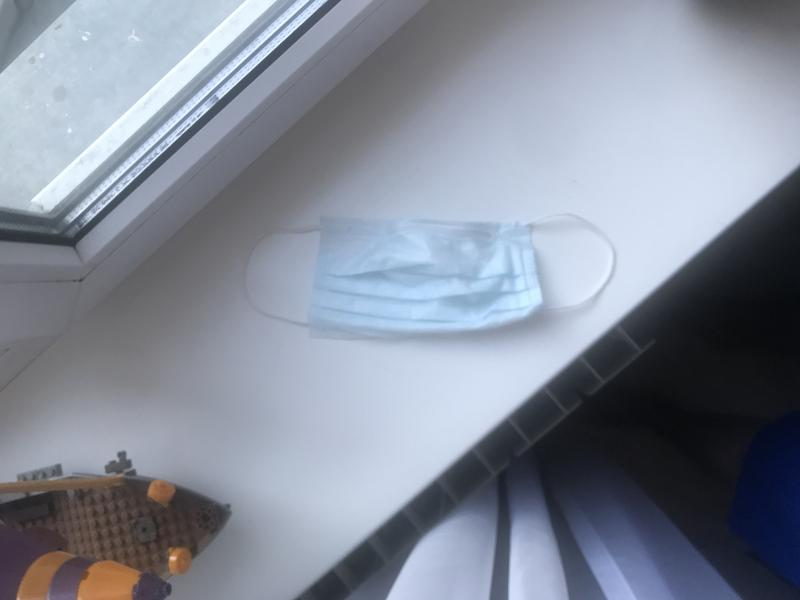medical_mask: (245, 213, 615, 326)
